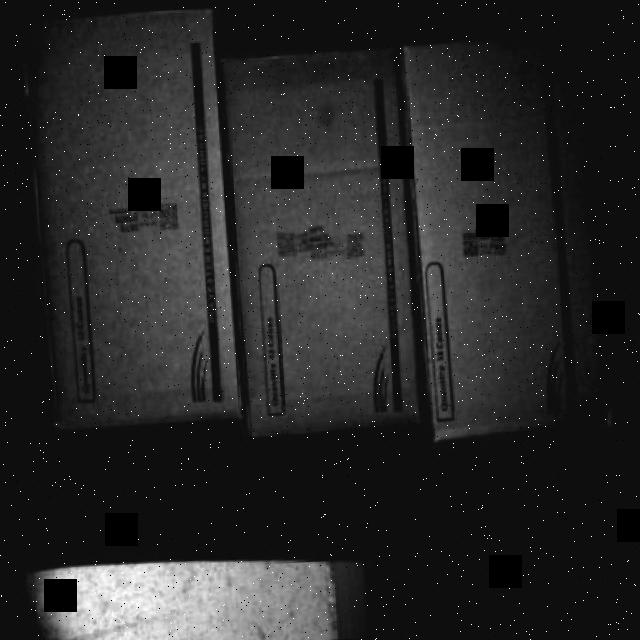box: (18, 16, 245, 434), (408, 32, 612, 434), (224, 44, 426, 437)
